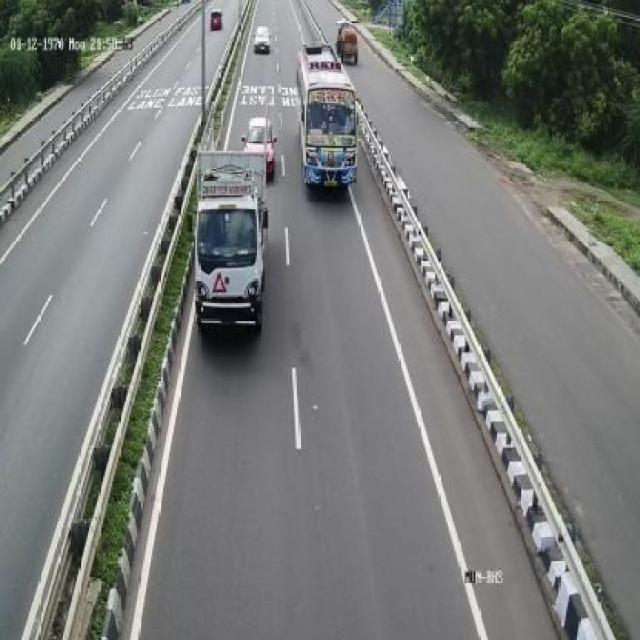car: (186, 106, 274, 334), (252, 20, 272, 62)
